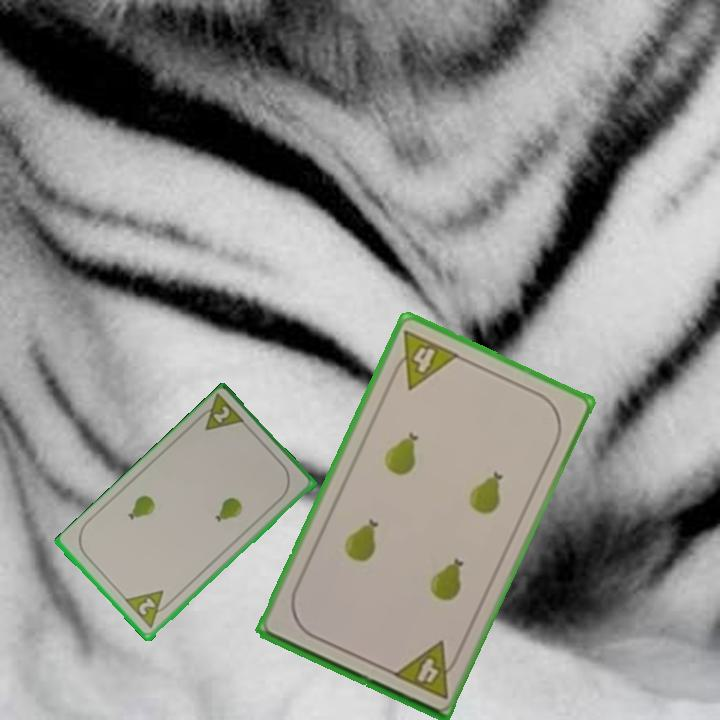2p: (122, 587, 176, 632), (192, 392, 249, 434)
4p: (385, 326, 462, 393), (389, 637, 464, 702)
